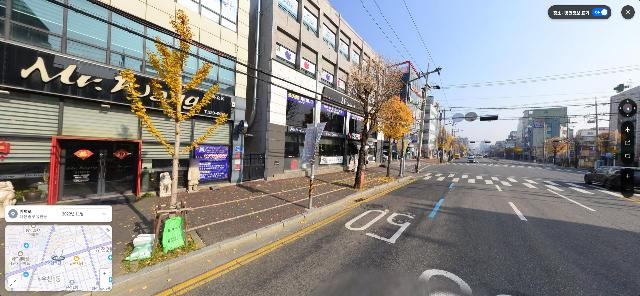ginkgo: (116, 9, 227, 257), (376, 95, 413, 179)
other: (341, 52, 407, 190)
